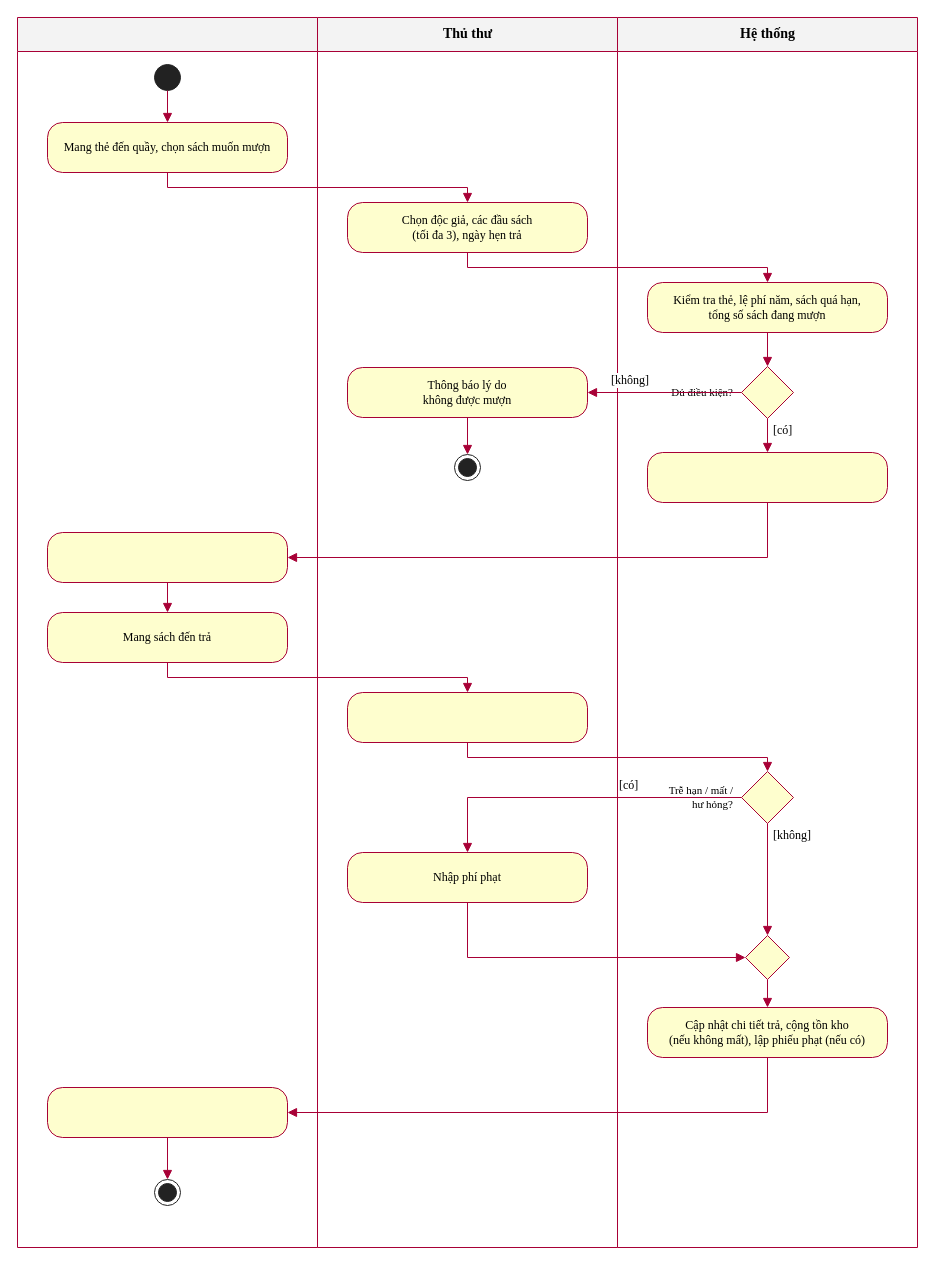
Some shapes in this 935 by 1265 pixel diagram are drawn without their labels. The shapes that lost their labels are listed below. From the top down, each one's box as (x1, y1, x2, y2) in pixels, then its label:
(646, 452, 888, 502): Lập phiếu mượn, chi tiết, trừ tồn kho (1 transaction)
(46, 532, 288, 582): Nhận sách, sử dụng đến hạn trả
(16, 16, 318, 1248): Độc giả
(346, 692, 588, 742): Chọn sách đang mượn, ghi ngày trả và tình trạng sách
(46, 1086, 288, 1138): Nhận thông báo / nộp phí phạt
